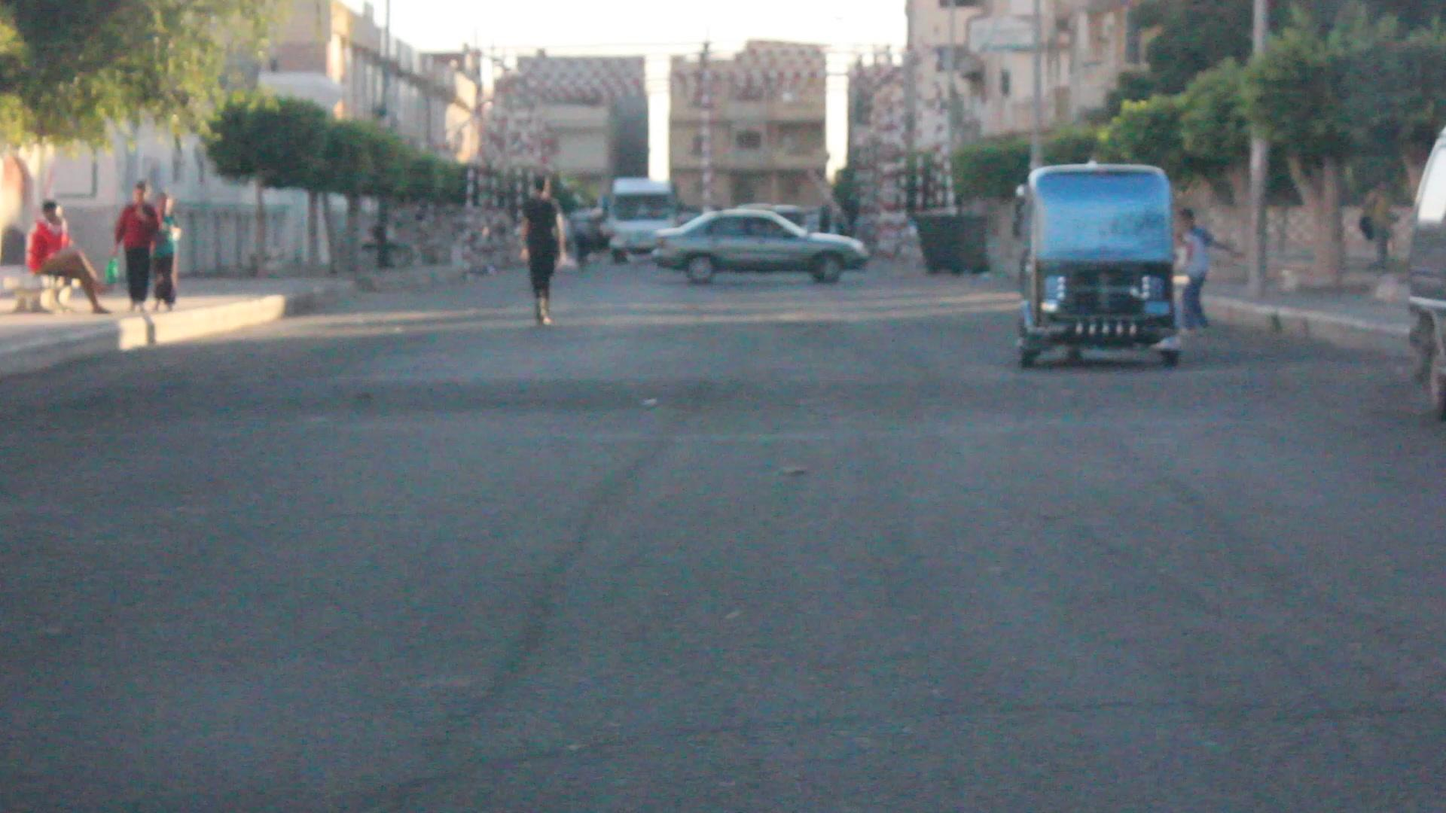Bump: (32, 343, 1446, 422)
